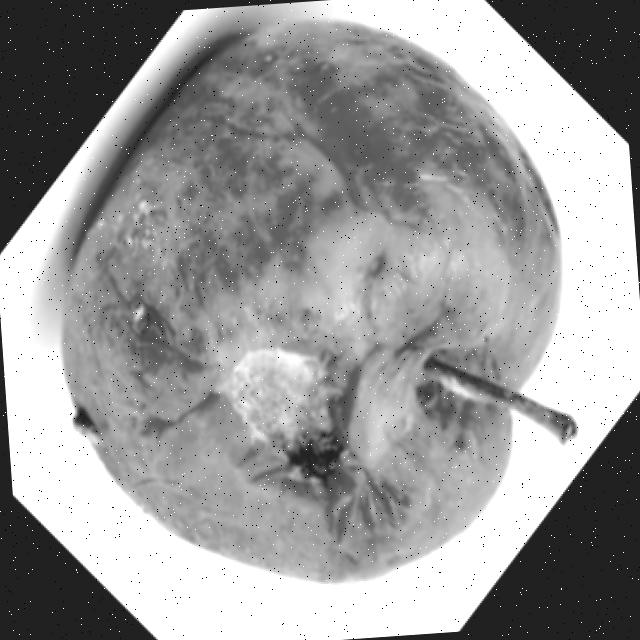Rotten: (33, 0, 595, 605)
